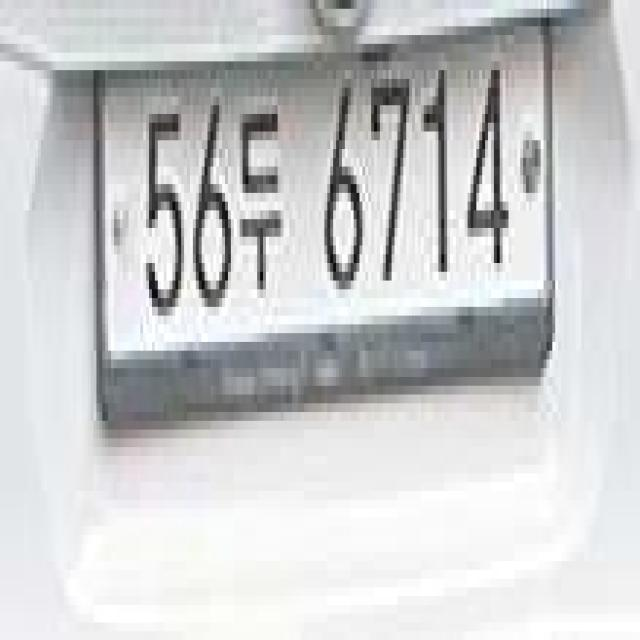illegal_plate: (89, 16, 562, 419)
